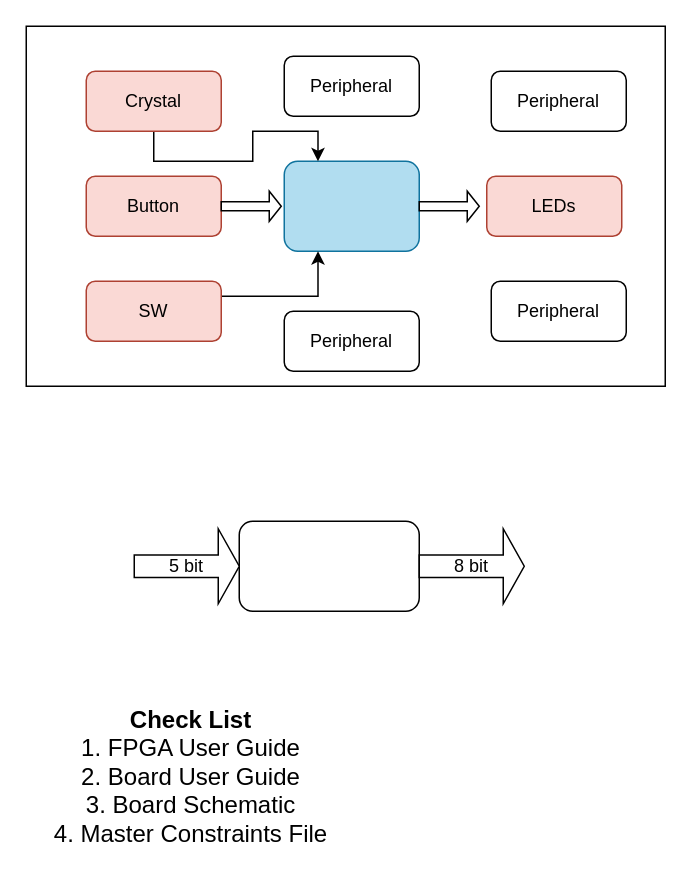
Image size: 692x878. Some labels were removed from this diagram. The centre of each missing label's shape, as x and y in pixels:
"FPGA" belongs at (x=351, y=205).
"LED Logic" belongs at (x=328, y=565).
